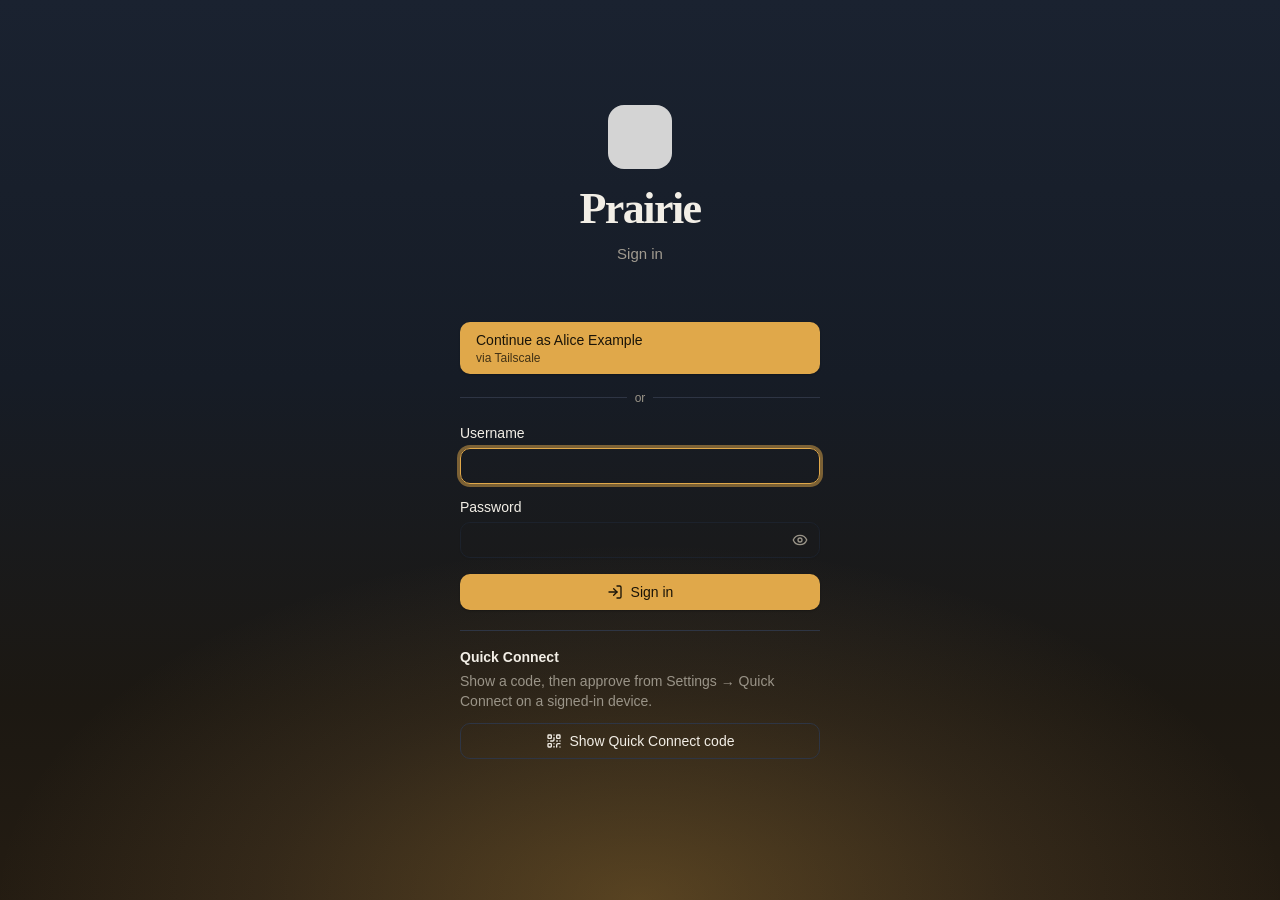
it: explains a network_identity_required refusal
This screenshot has width=1280, height=900.
Click the button "Continue as Alice Example via Tailscale". click: [640, 348]
box: [460,322,820,374]
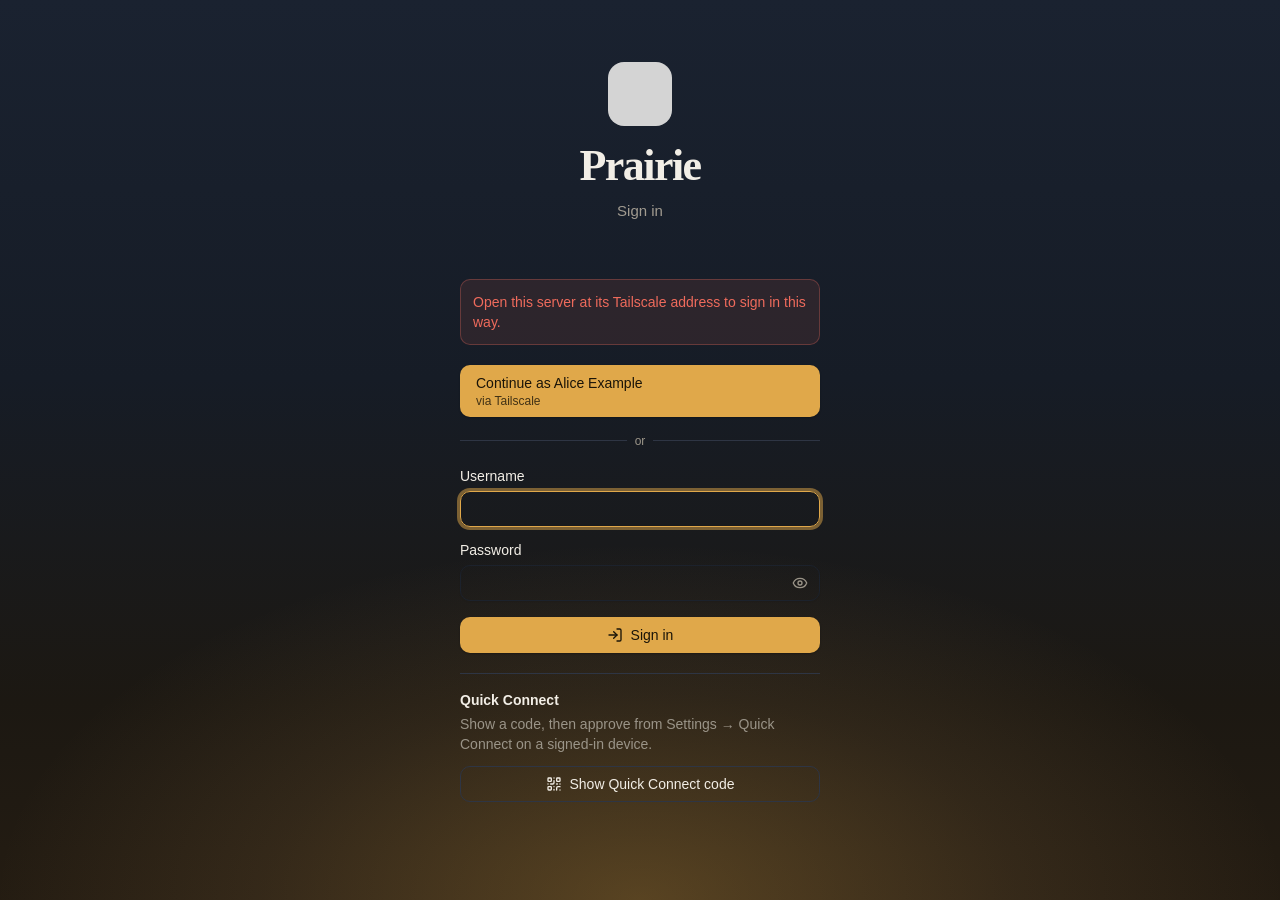
expect the message reads "Open this server at its Tailscale address to sign in this way.": met, box [473,294,806,330]
